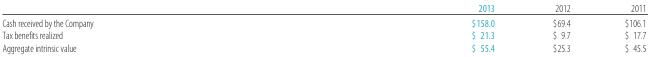table: (1, 1, 645, 53)
table column: (1, 1, 281, 53), (281, 1, 522, 53), (522, 1, 596, 53), (596, 1, 645, 53)
table column header: (1, 1, 645, 14)
table row: (1, 14, 645, 28), (1, 1, 645, 14), (1, 28, 645, 41), (1, 41, 645, 53)
